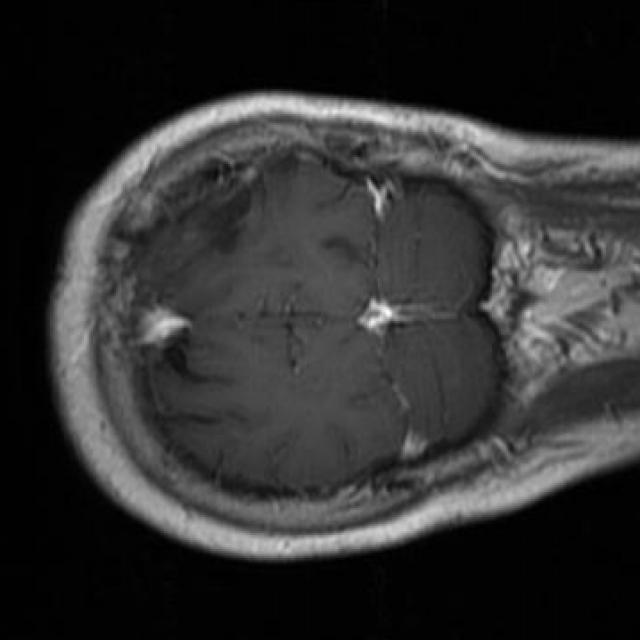glioma: (193, 176, 262, 251)
